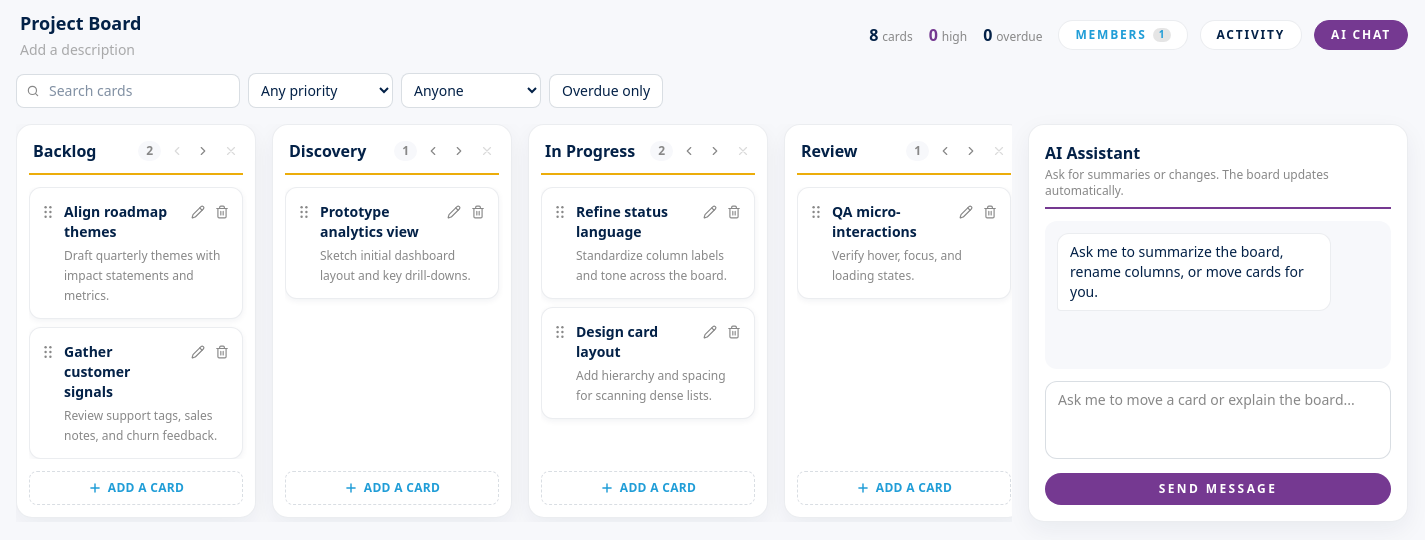
KanbanBoard › renames a column
The image size is (1425, 540).
Replace the text in the 1st field named "Column title" with "New Name" at (81, 151), box [29,137,132,165]
Then press Enter
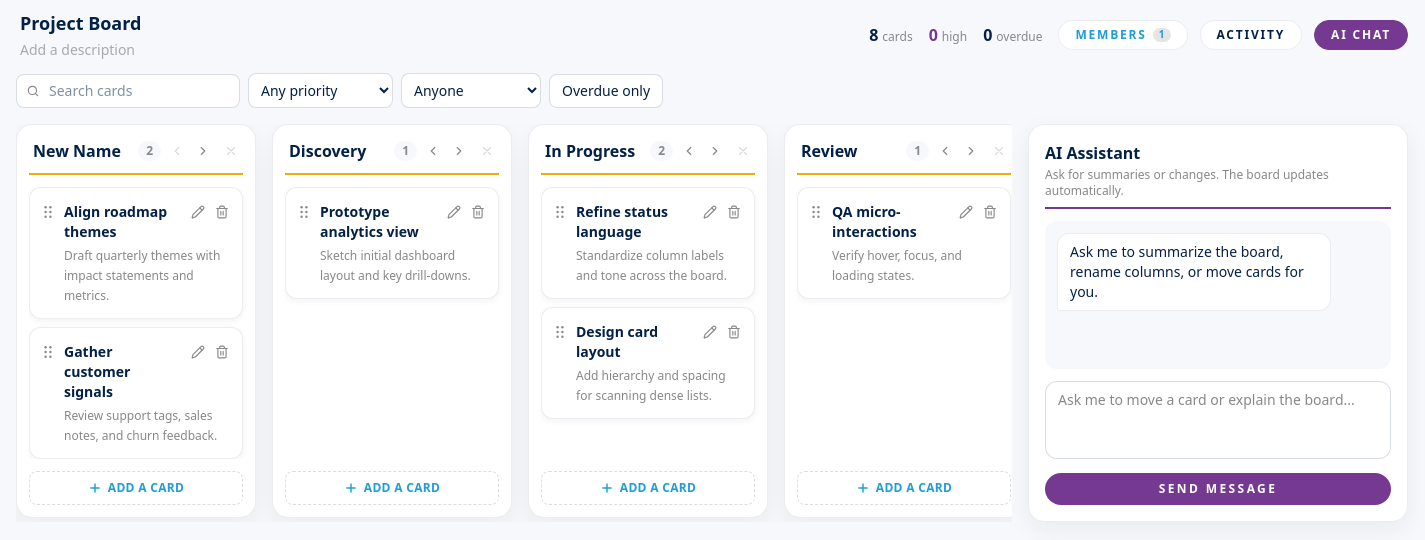
Result: the 1st field named "Column title" holds "New Name" at [29,137,132,165]
